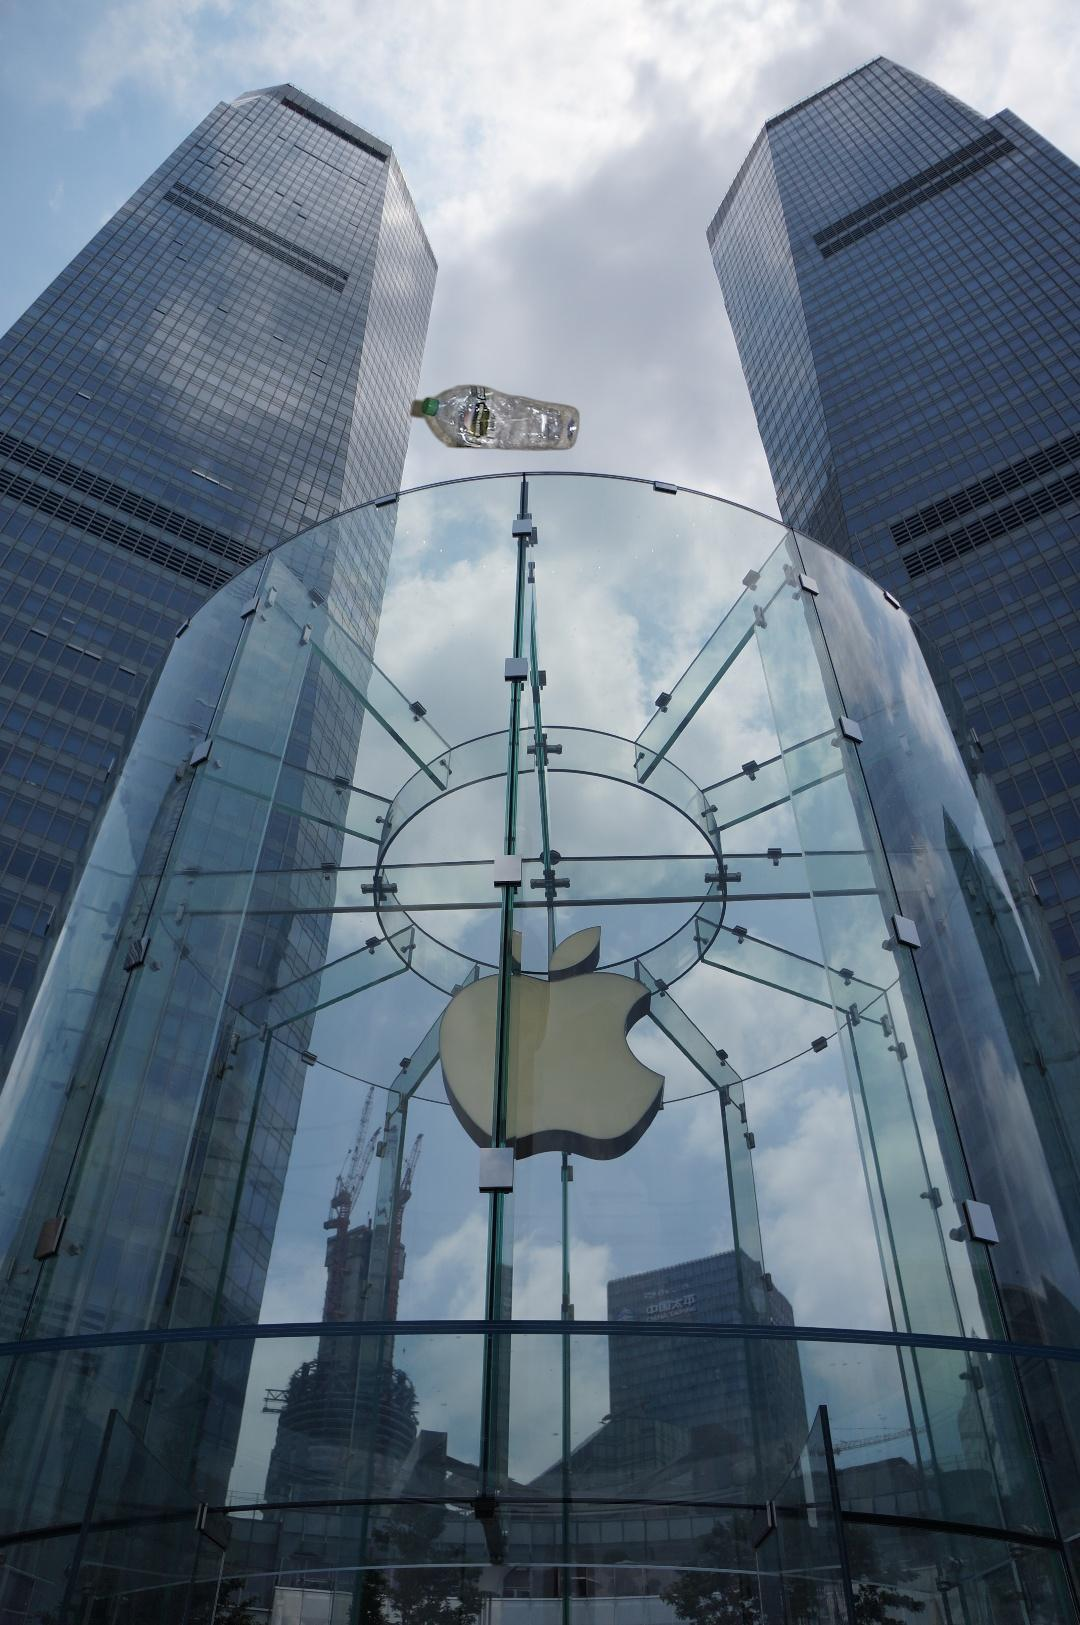plastic-bottles: (155, 288, 585, 454)
